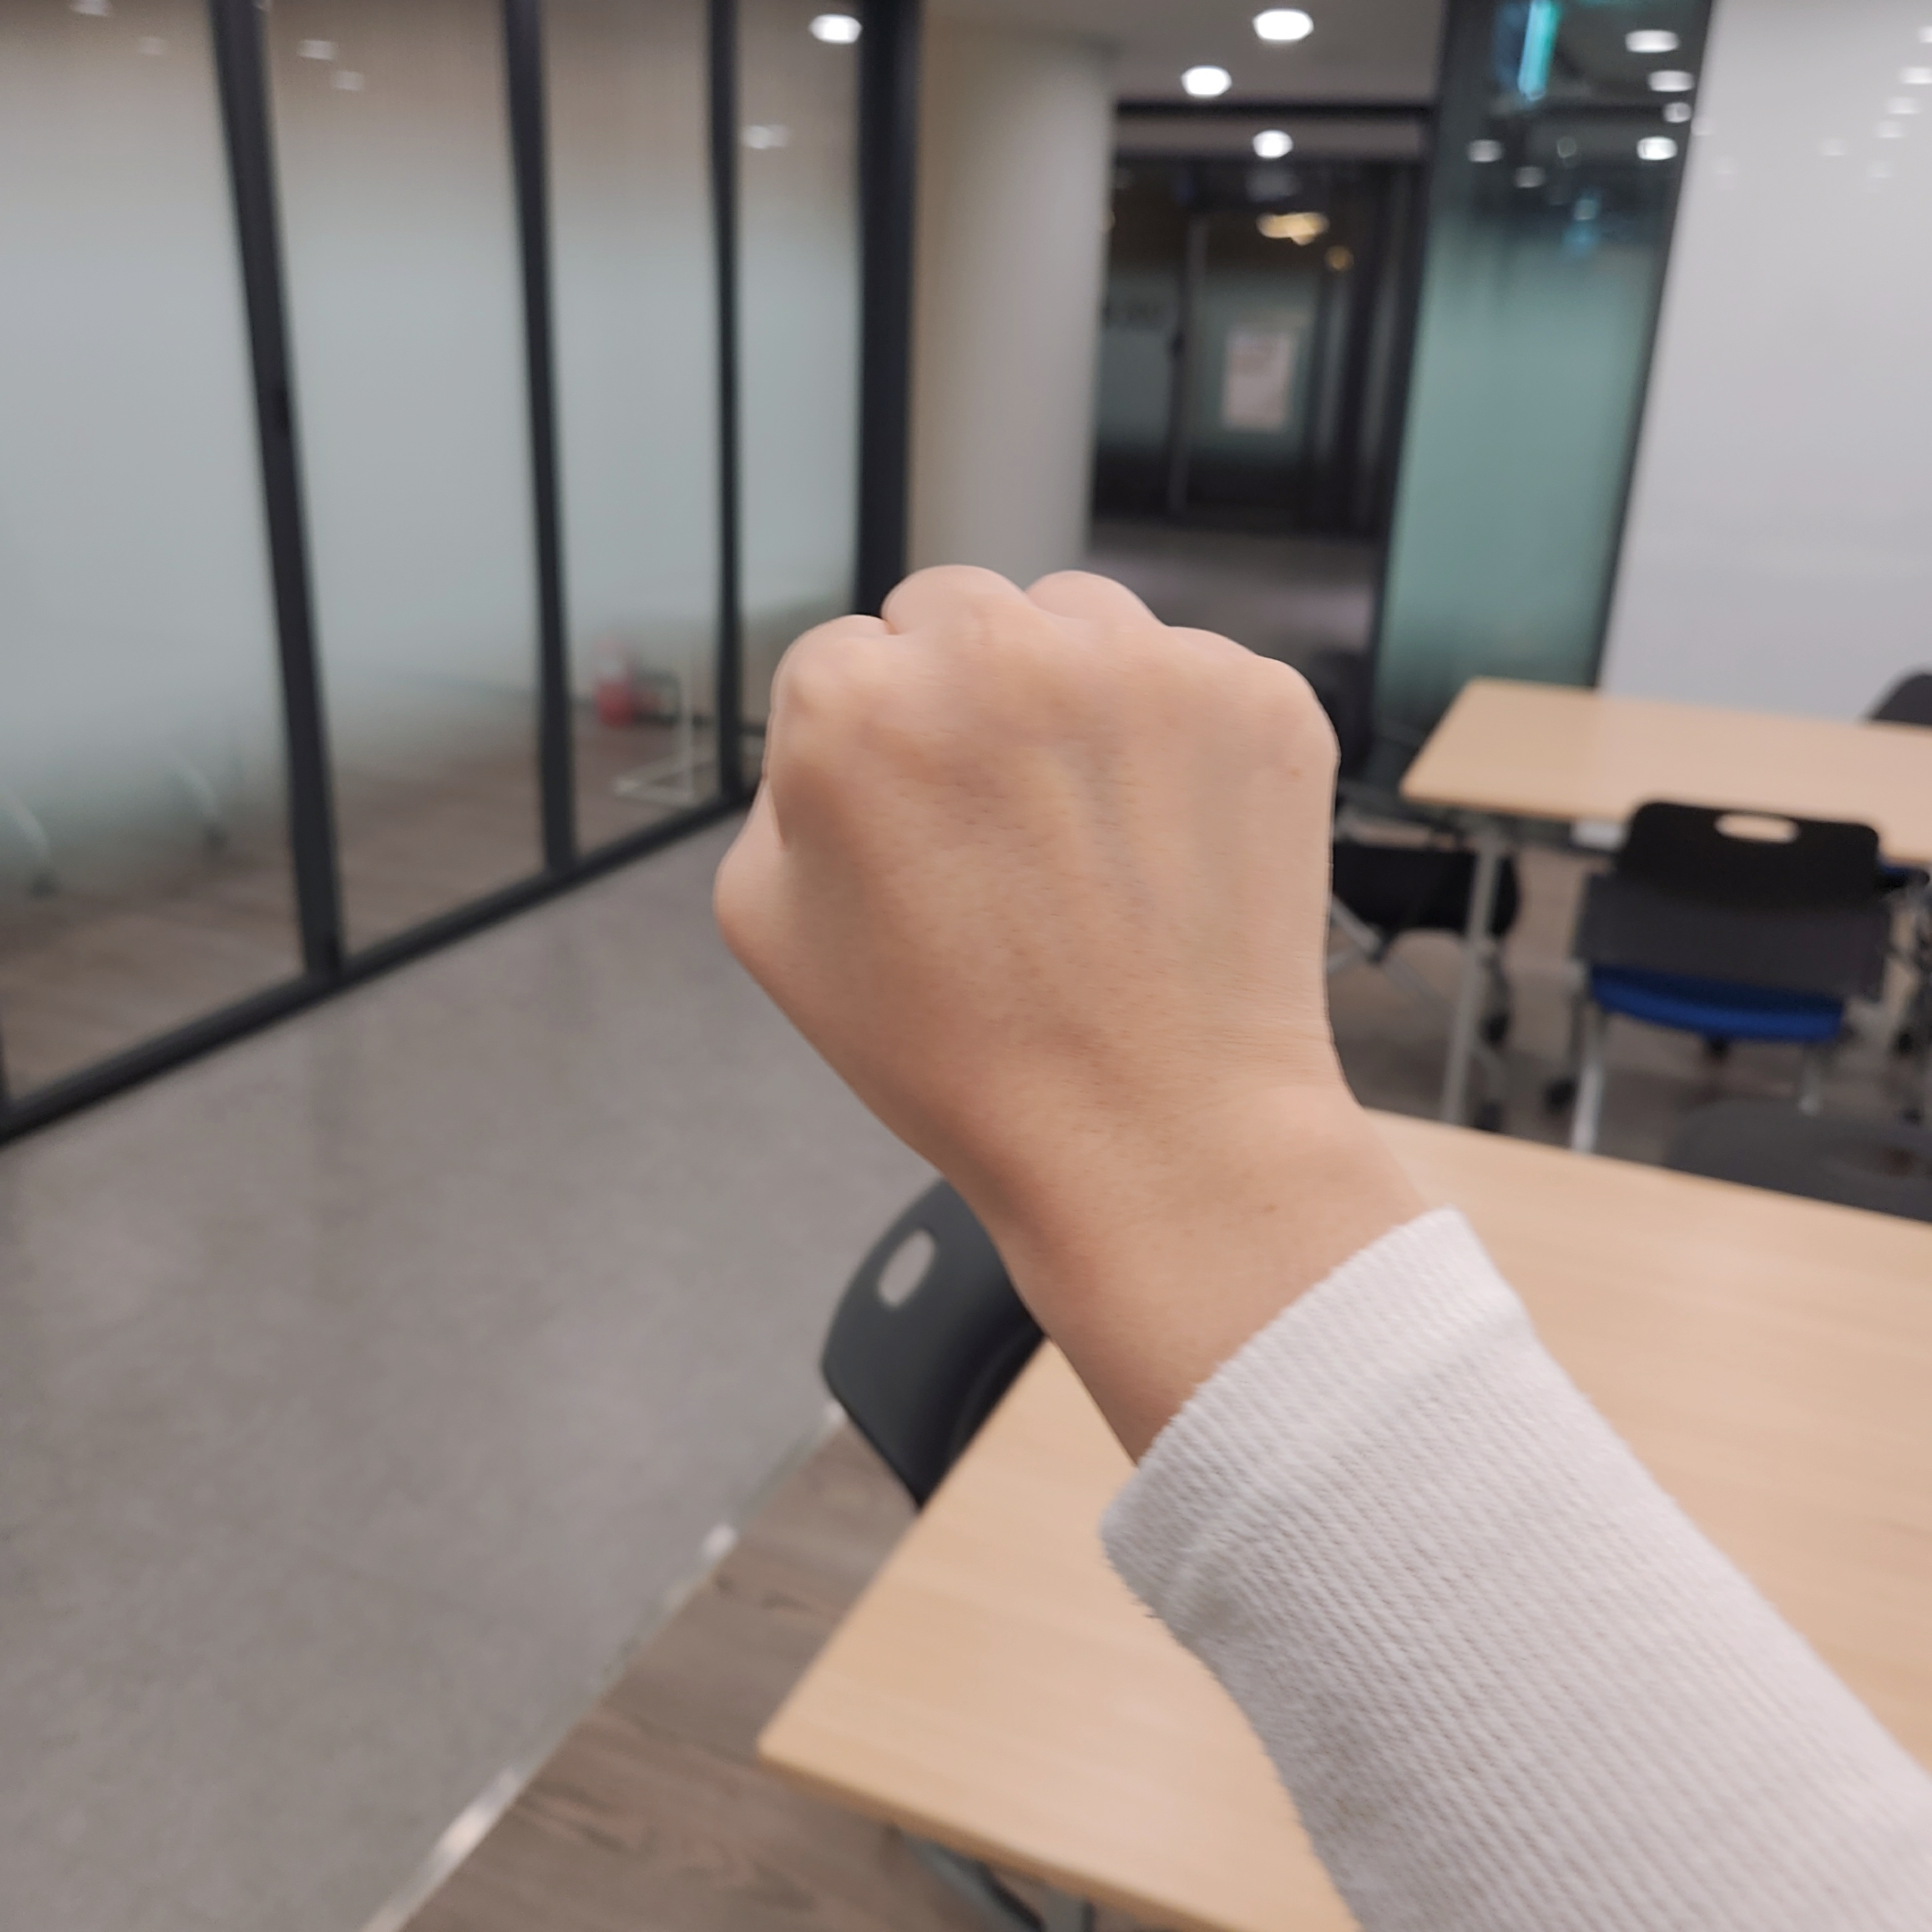smile: (709, 556, 1355, 1201)
